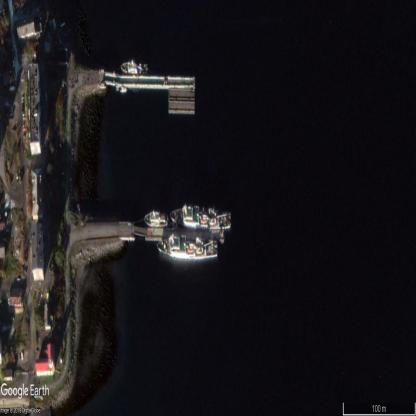ship: (170, 204, 232, 230), (158, 236, 219, 261), (144, 207, 168, 229), (121, 60, 148, 76)
